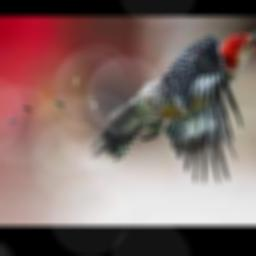Woodpecker: (90, 25, 256, 183)
